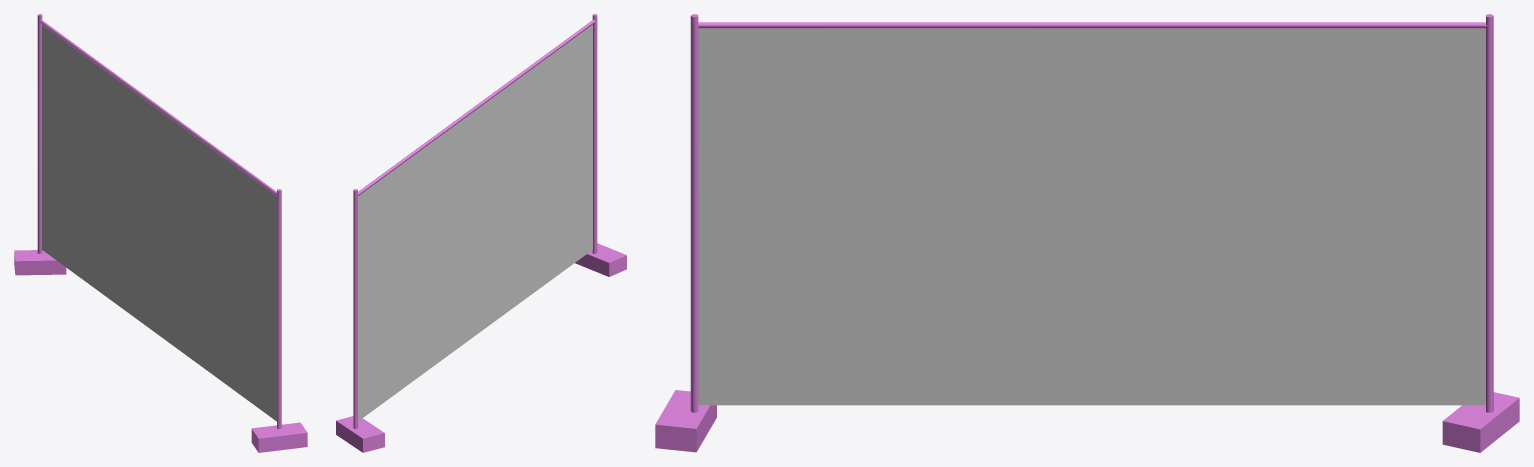
File: Fence.fbx
3 renders of one model, left to right at view 1: azimuth 30°, elevation 25°; view 2: azimuth 150°, elevation 25°; view 3: azimuth 270°, elevation 25°, orthographic. The views are drawn at different scales.
Parts seen in each view (by area): view 1: Fence; view 2: Fence; view 3: Fence.
Part boxes in pixels (<box>): Fence: <box>14,14,307,452</box>; Fence: <box>336,14,626,452</box>; Fence: <box>655,14,1519,452</box>.
Size of the model in its own units: 91.88 by 449 by 839.
